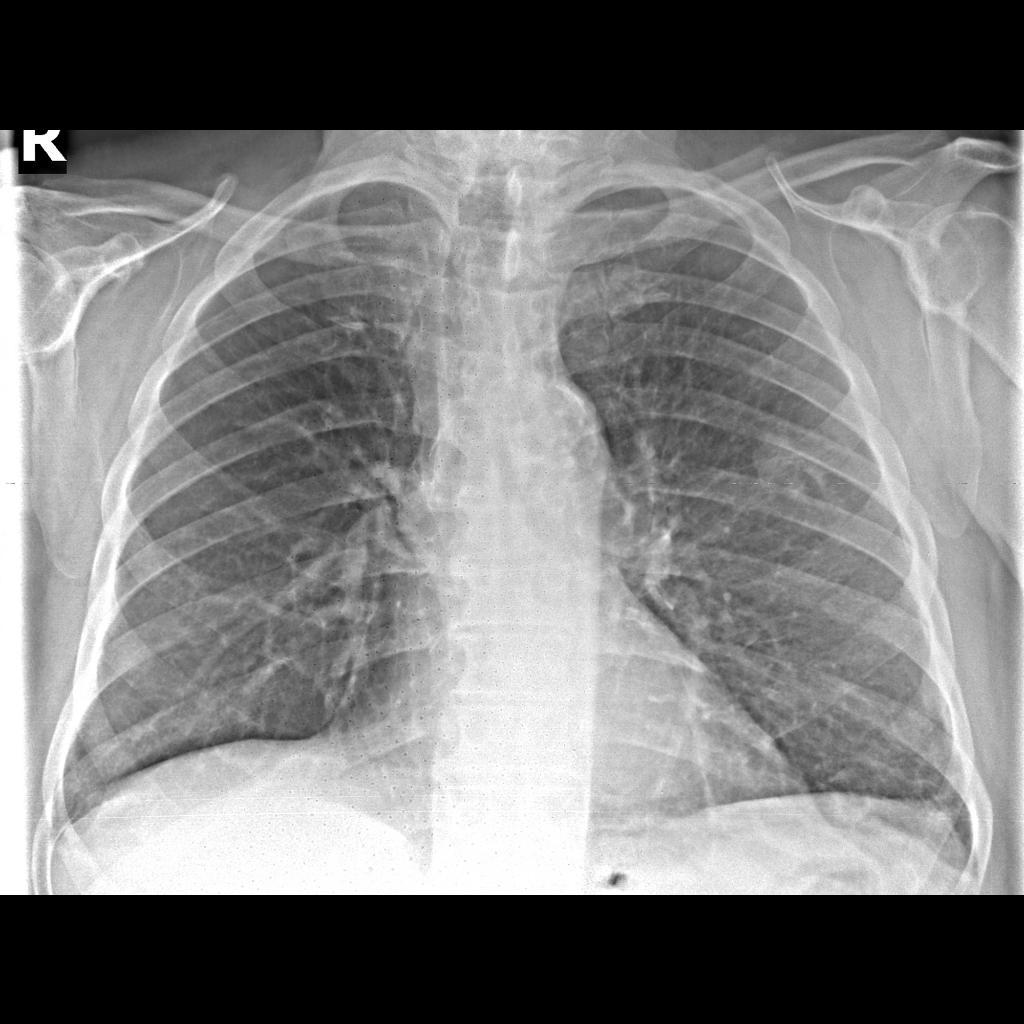Nodule: (737, 419, 832, 504)
